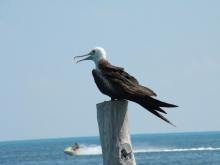bird: (75, 49, 177, 127)
